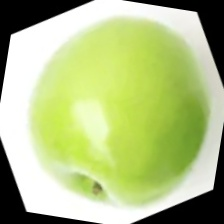apple: (41, 65, 180, 201)
